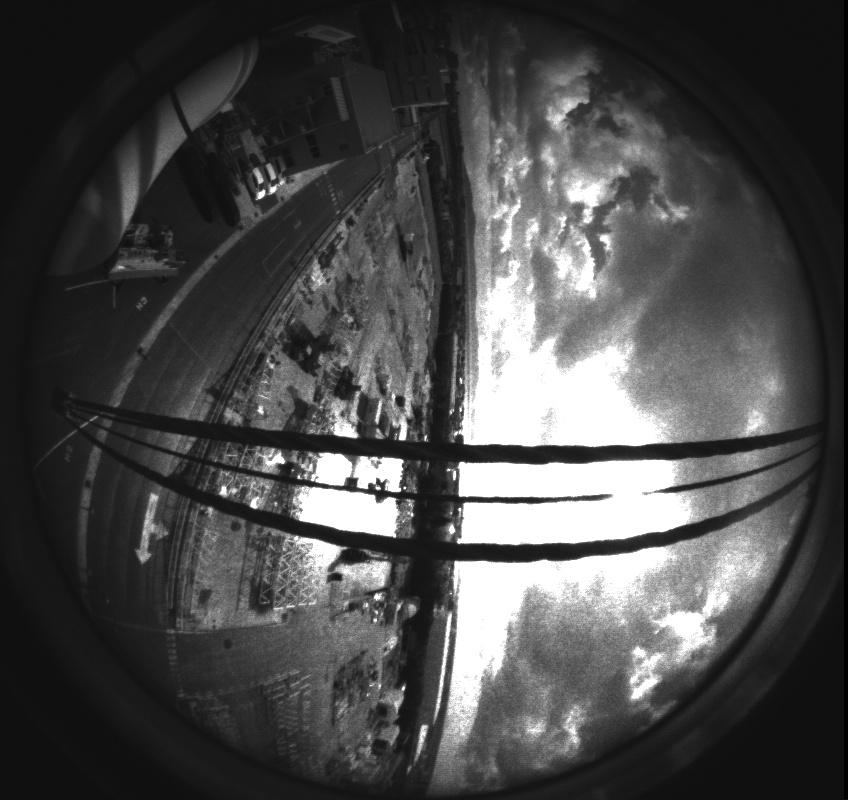rope: (11, 364, 844, 573)
